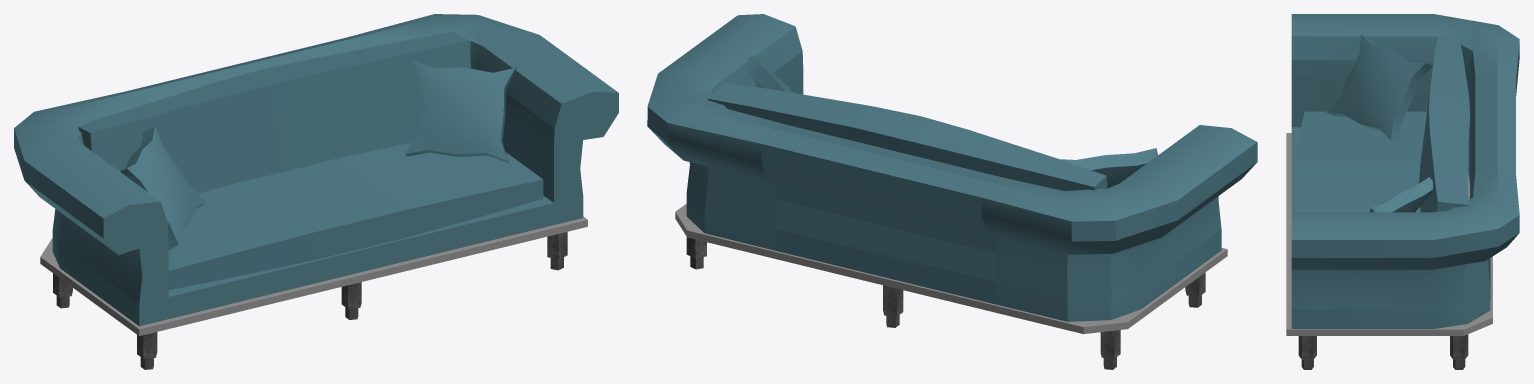
Rendered from Sofa.fbx.
3 views of the same model, side by side, from view 1: azimuth 30°, elevation 25°; view 2: azimuth 150°, elevation 25°; view 3: azimuth 270°, elevation 25° (orthographic). The views are drawn at different scales.
Parts seen in each view (by area): view 1: Sofa_chair; view 2: Sofa_chair; view 3: Sofa_chair.
Boxes of the visible parts, bbox=[...] form: Sofa_chair: bbox=[14, 14, 618, 369]; Sofa_chair: bbox=[647, 14, 1257, 369]; Sofa_chair: bbox=[1286, 14, 1519, 369].
Bounding box in the file's own units: 338 × 117 × 148.
